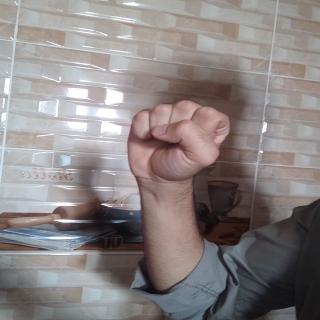SAD: (121, 93, 238, 190)
